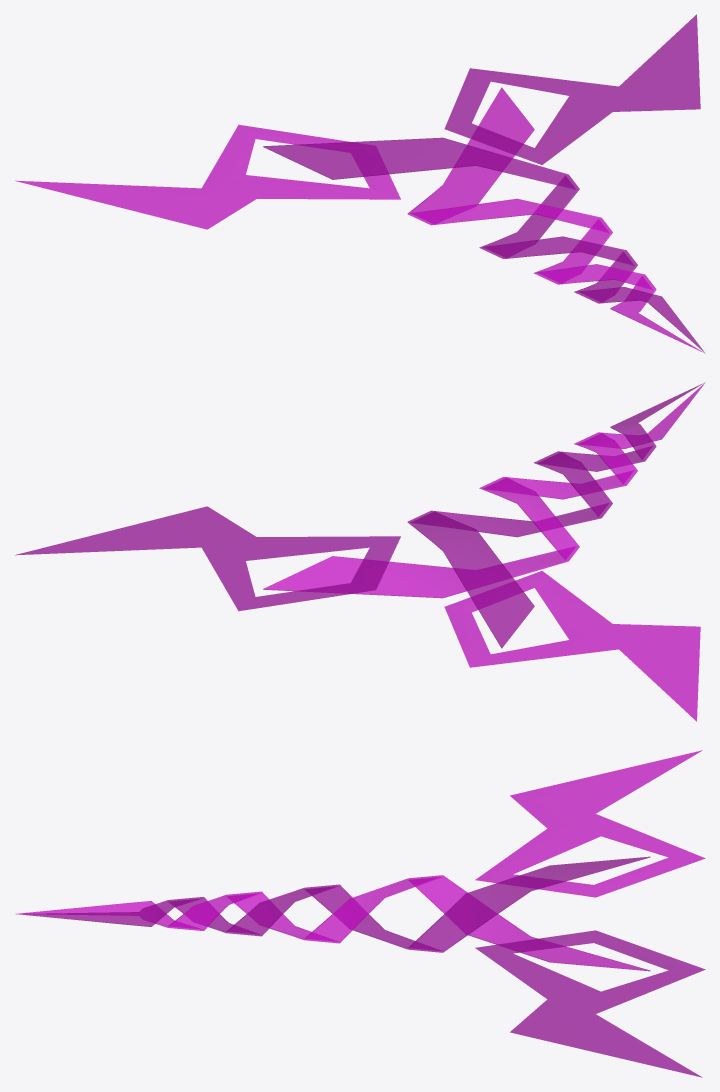
Rendered from Harold_Spear_Burst.FBX.
3 views of the same model, one above another, from view 1: azimuth 30°, elevation 25°; view 2: azimuth 150°, elevation 25°; view 3: azimuth 270°, elevation 25° (orthographic).
Visible parts, largest first — view 1: SpearBurst; view 2: SpearBurst; view 3: SpearBurst.
Part boxes in pixels (x1,y1,x2,y2): SpearBurst: (15,14,705,353); SpearBurst: (15,382,705,721); SpearBurst: (16,750,705,1077).
Bounding box in the file's own units: 180 × 12 × 161.
